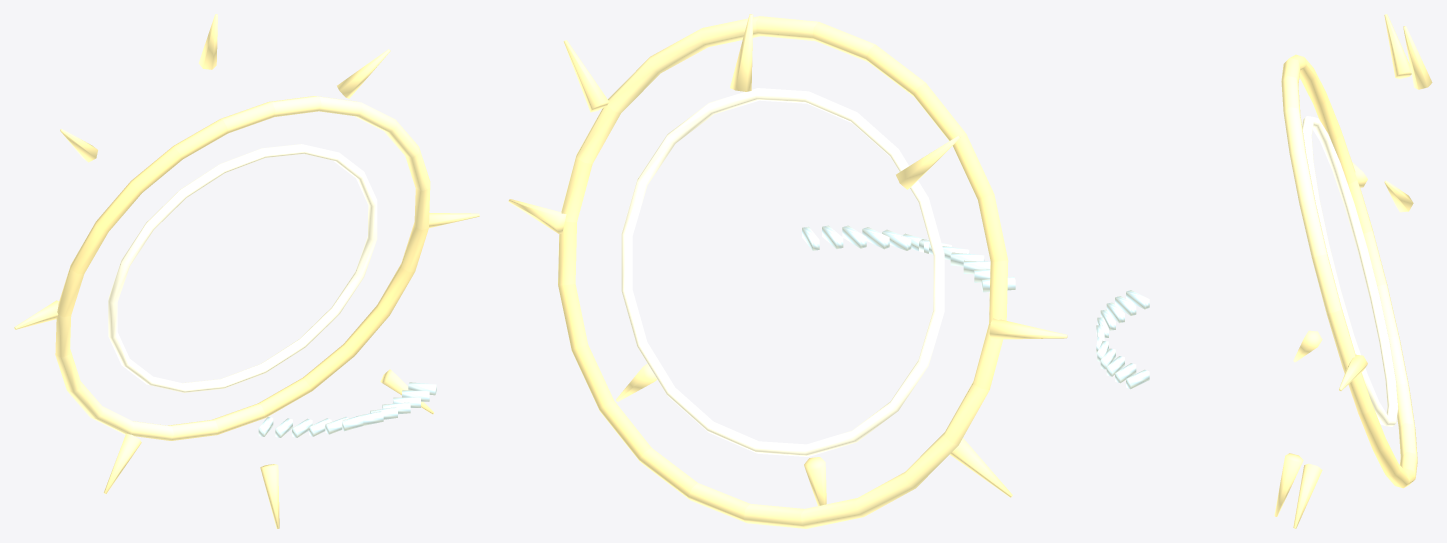
The model's file is saintess-halo-crown.glb.
The picture shows the model from 3 angles, left to right: view 1: azimuth 30°, elevation 25°; view 2: azimuth 150°, elevation 25°; view 3: azimuth 270°, elevation 25°; orthographic projection. The views are drawn at different scales.
Parts seen in each view (by area): view 1: TS_HeadProp_saintess-halo-crown; view 2: TS_HeadProp_saintess-halo-crown; view 3: TS_HeadProp_saintess-halo-crown.
Boxes of the visible parts, left/top/right/bottom form: TS_HeadProp_saintess-halo-crown: left=14, top=14, right=479, bottom=528; TS_HeadProp_saintess-halo-crown: left=508, top=14, right=1067, bottom=528; TS_HeadProp_saintess-halo-crown: left=1096, top=14, right=1432, bottom=528.
Size of the model in its own units: 0.3509 by 0.3385 by 0.2102.
1 material, 1 textured.
